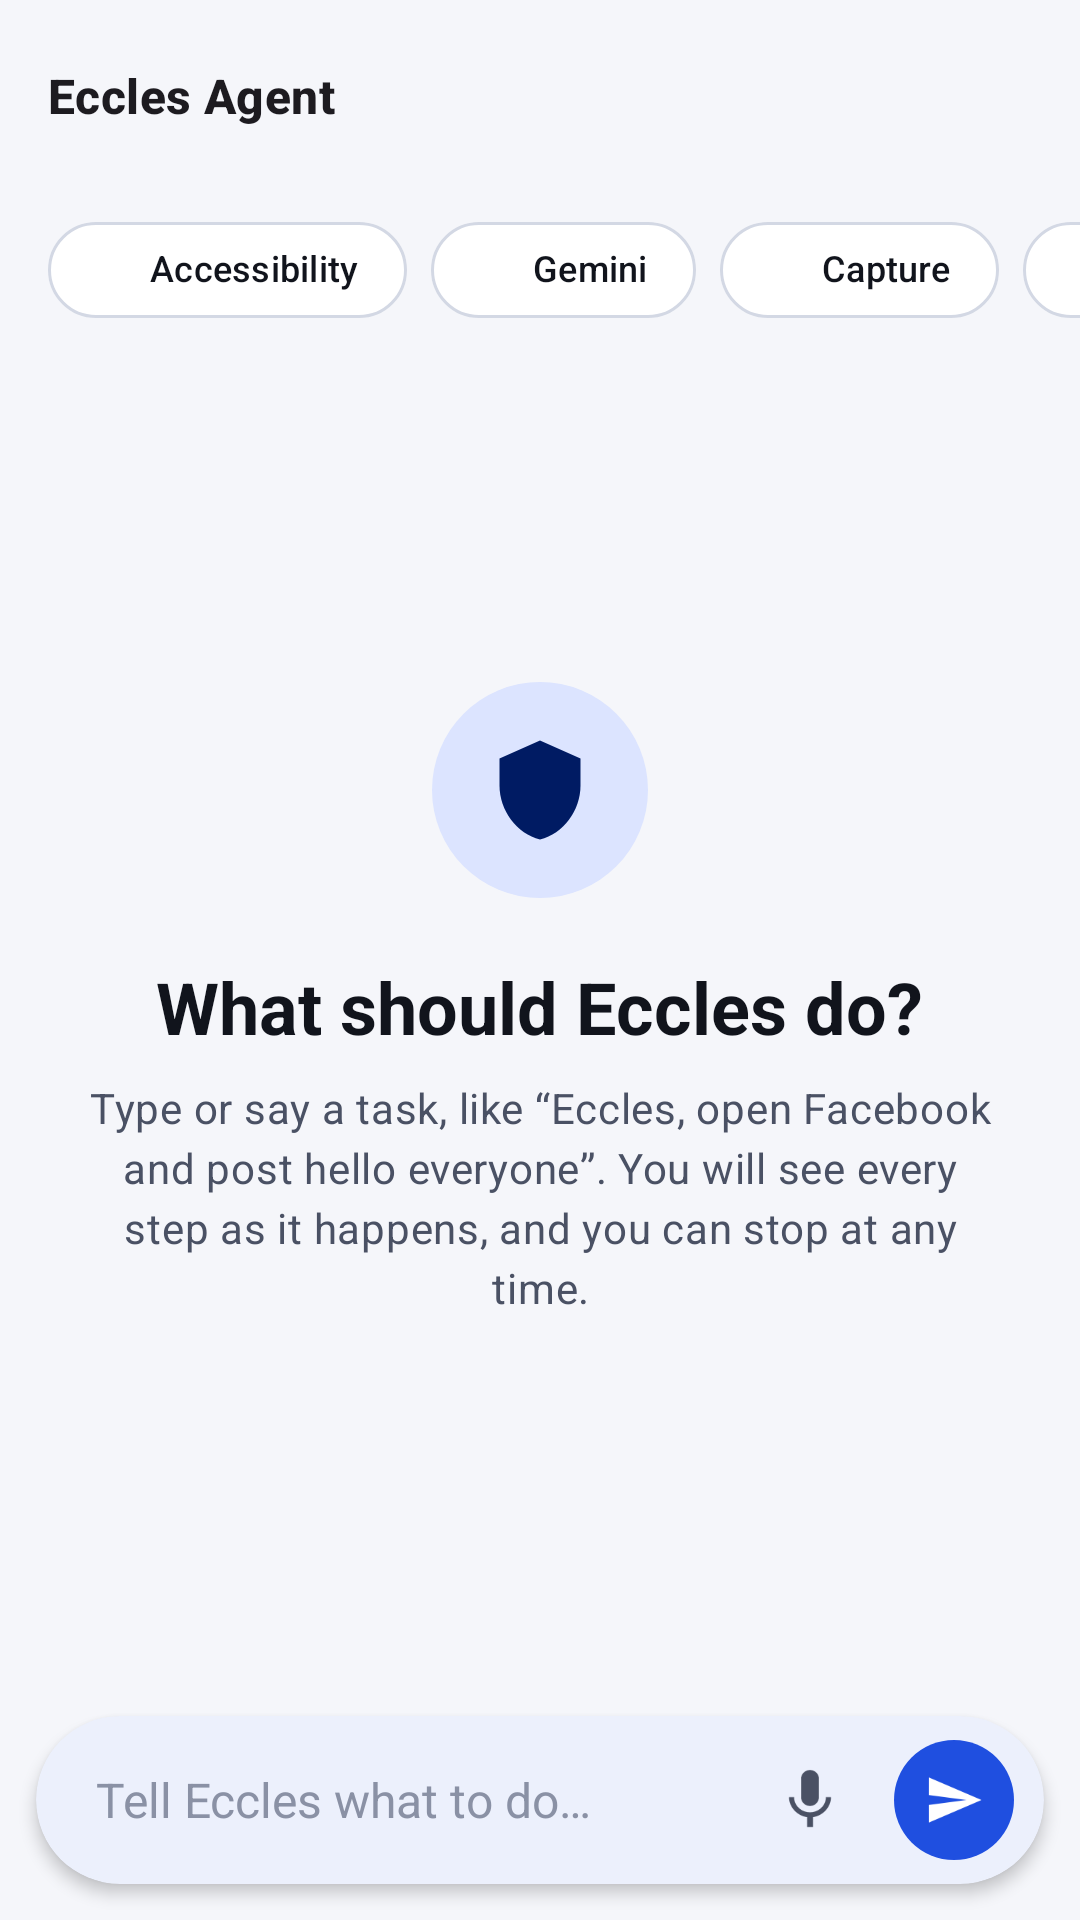

Where icons sit on this 1080px×1920px app screen, as (x1, y1, x2, y2):
Send: (894, 1740, 1014, 1860)
shield: (499, 740, 581, 840)
Speak a task: (789, 1770, 831, 1827)
